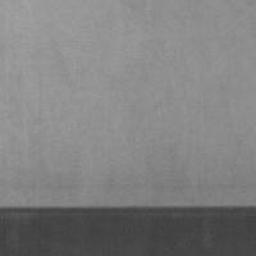Welding line: (0, 207, 256, 215)
